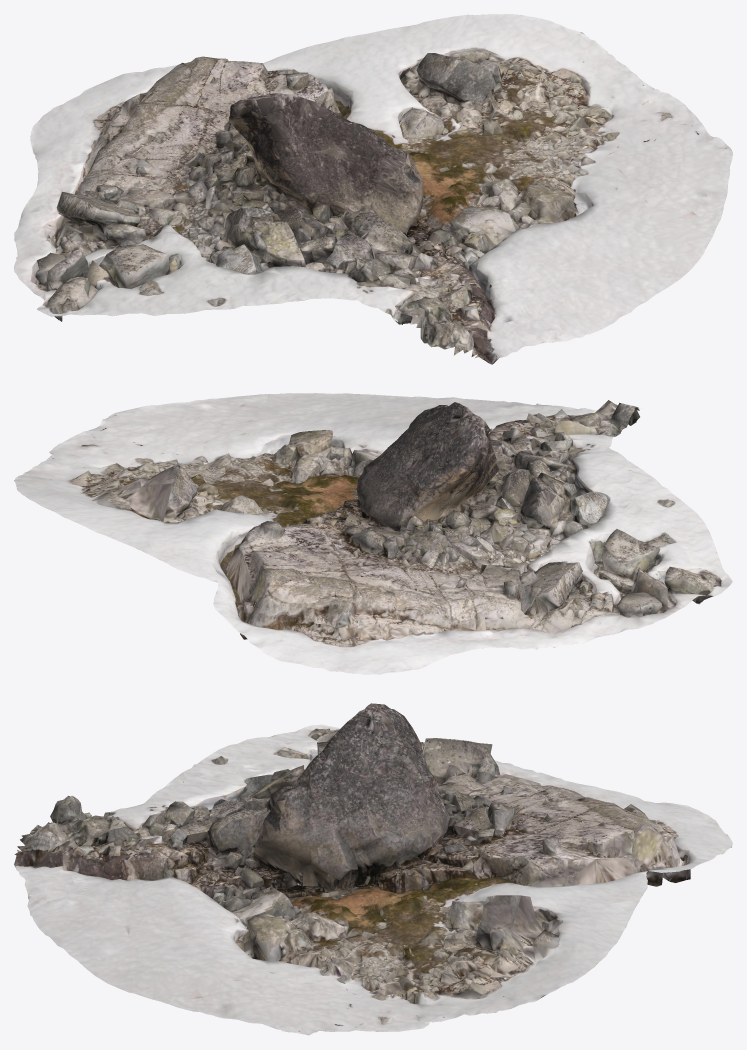
Rendered from rock_formation.glb.
3 views of the same model, one above another, from view 1: azimuth 30°, elevation 25°; view 2: azimuth 150°, elevation 25°; view 3: azimuth 270°, elevation 25° (orthographic). The views are drawn at different scales.
Visible parts, largest first — view 1: Mountain Rock in Spring Photoscan; view 2: Mountain Rock in Spring Photoscan; view 3: Mountain Rock in Spring Photoscan.
Part boxes in pixels (left/top/right/bottom): Mountain Rock in Spring Photoscan: left=14, top=14, right=732, bottom=364; Mountain Rock in Spring Photoscan: left=14, top=393, right=732, bottom=674; Mountain Rock in Spring Photoscan: left=14, top=703, right=732, bottom=1035.
Size of the model in its own units: 15.99 by 3.72 by 15.13.
Materials: 1 (1 with a texture image).
